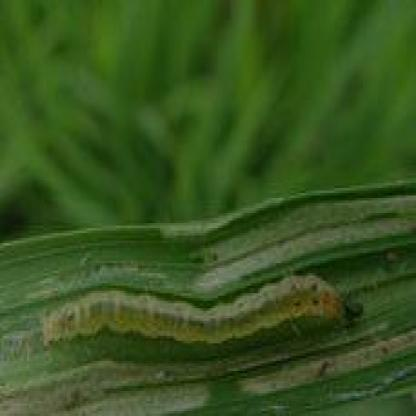leaf-folder: (44, 268, 383, 358)
